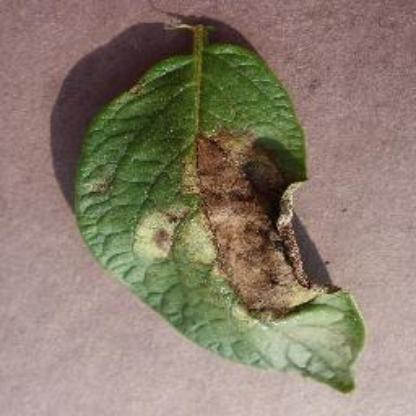Late-Blight: (63, 16, 377, 392)
